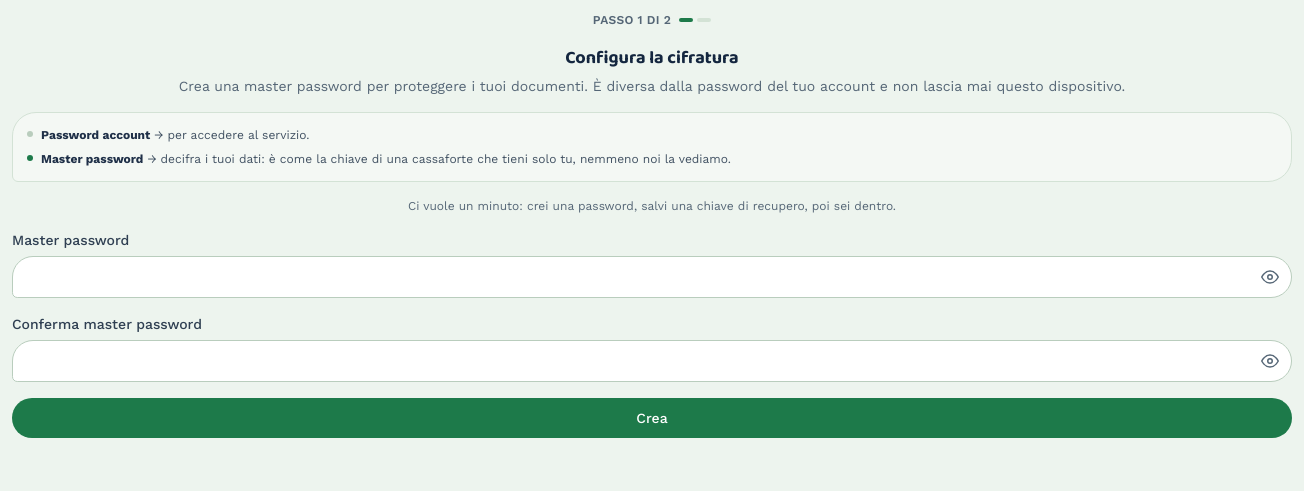
Test: SetupMasterKeyForm › al primo passo chiede password e conferma, e rifiuta password corte o diverse
The image size is (1304, 491).
Expected: the heading "Configura la cifratura" is shown, [565,44,739,72]
Expected: the text "Passo 1 di 2" is shown, [593,13,711,27]
Type "corta" into the password field labelled "Master password" at [652, 277], box [12,256,1292,298]
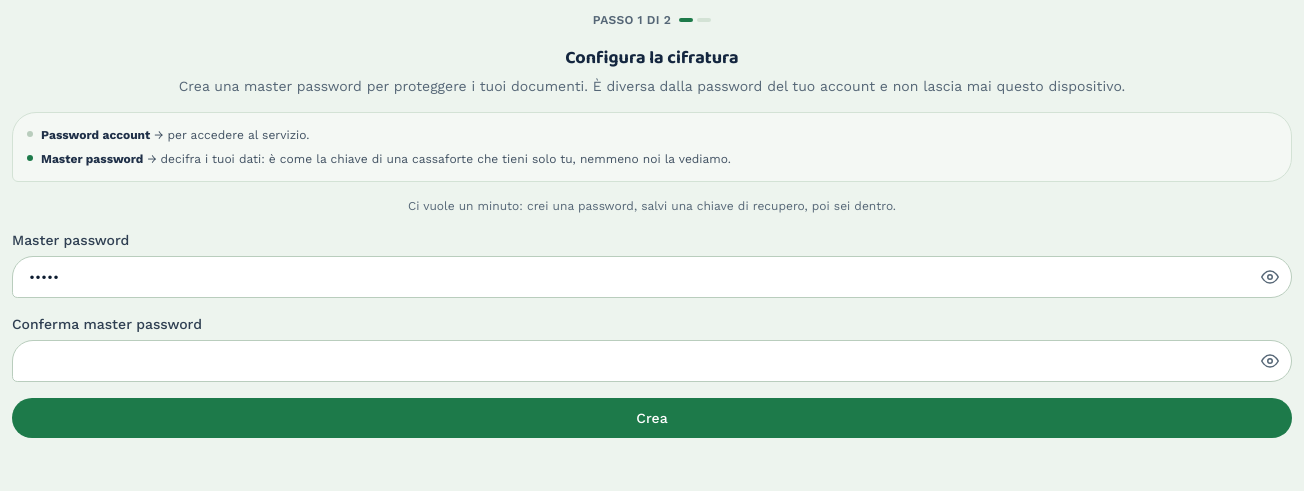
Type "corta" into the password field labelled "Conferma master password" at [652, 361], box [12,340,1292,382]
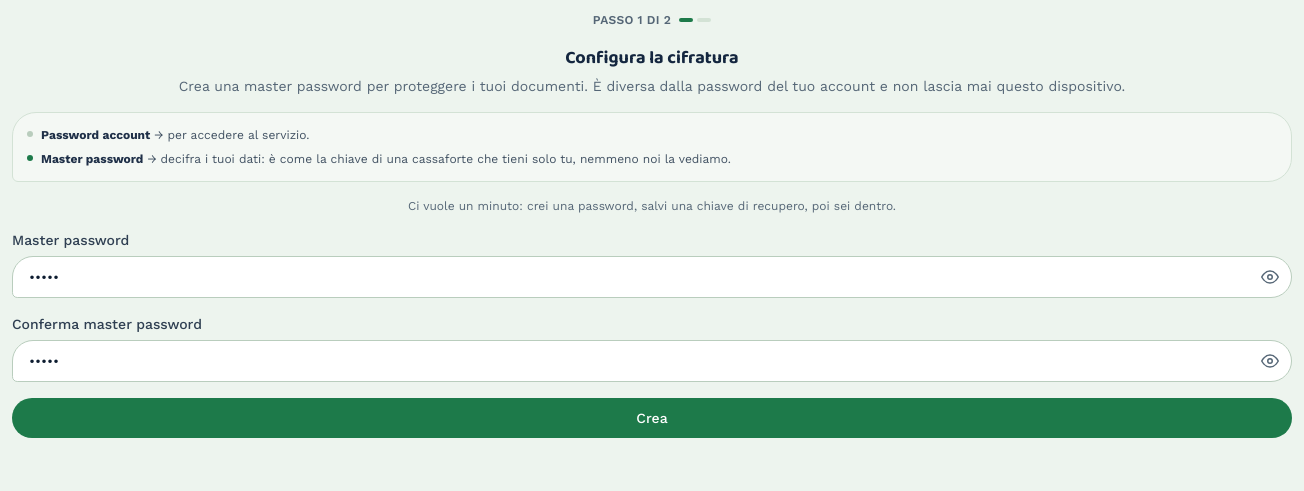
Click the button "Crea" at [652, 418], box [12,398,1292,438]
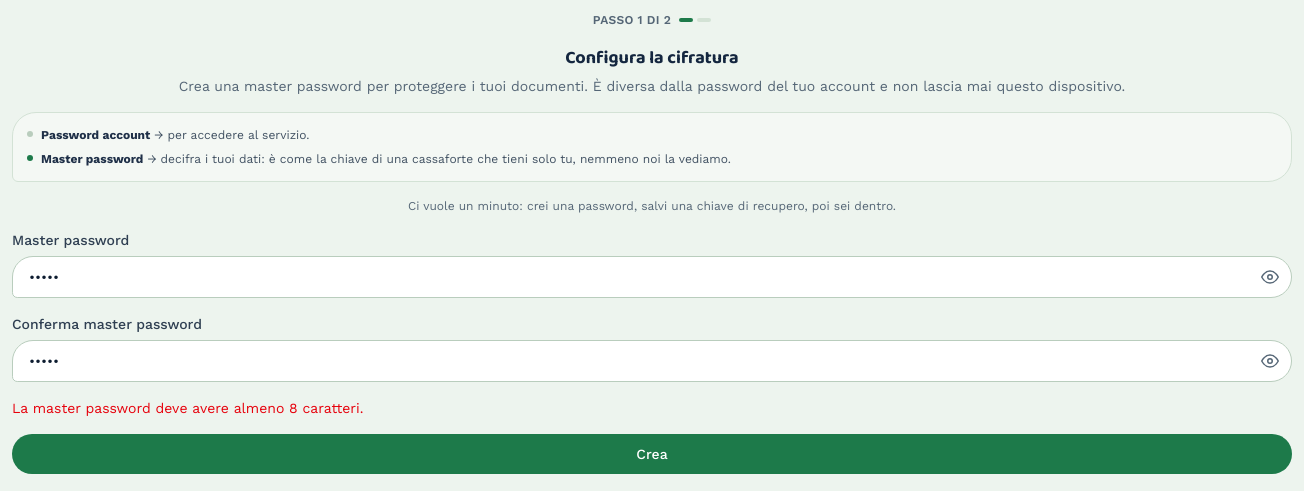
Result: the message shows "almeno 8 caratteri" at [12,400,364,416]
Type "una-master-password" into the password field labelled "Master password" at [652, 277], box [12,256,1292,298]
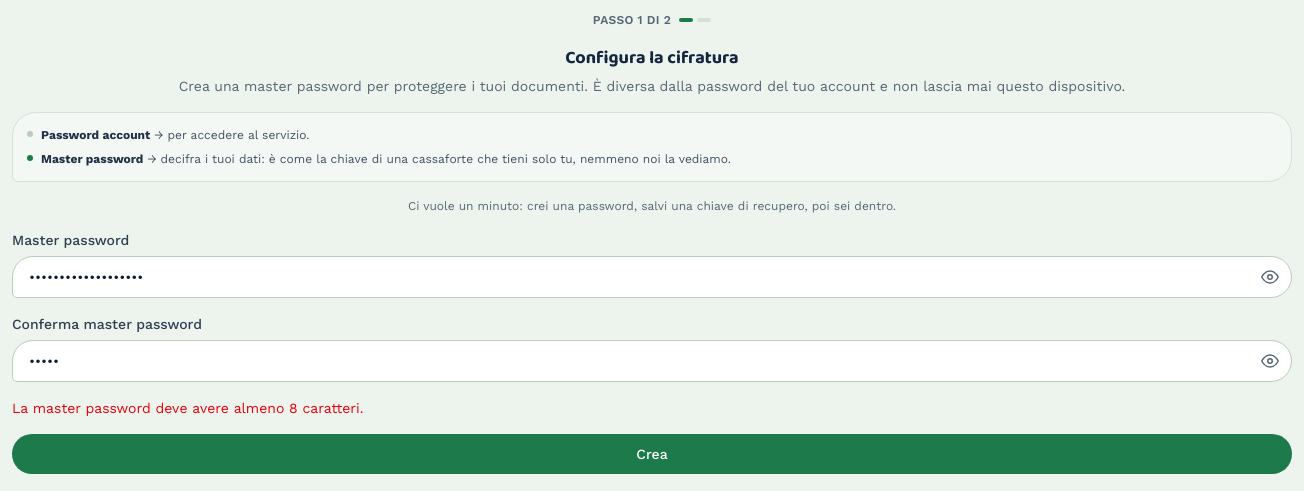
Type "un-altra-master-password" into the password field labelled "Conferma master password" at [652, 361], box [12,340,1292,382]
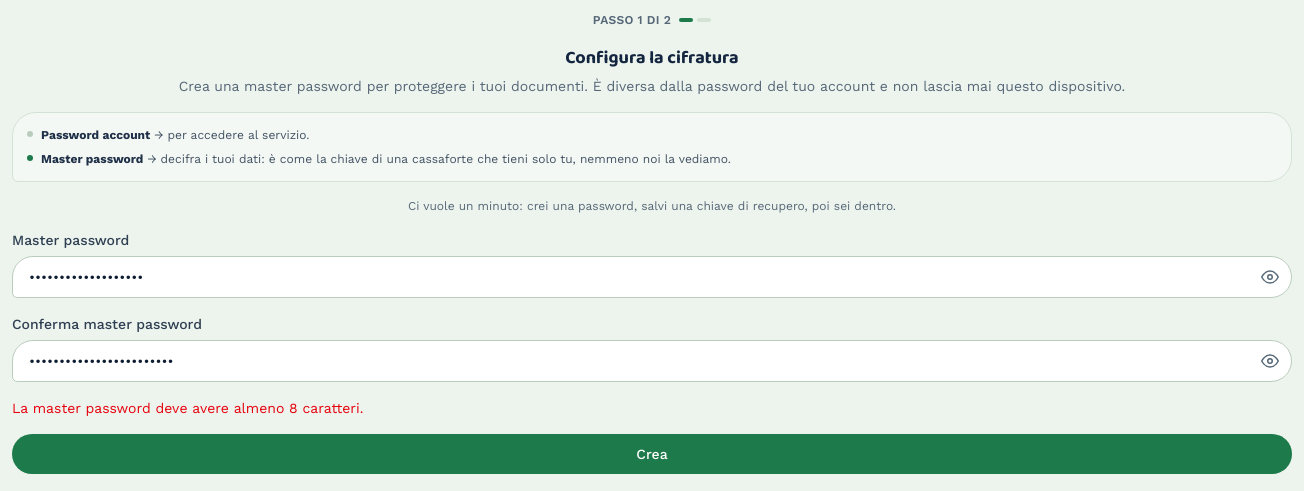
Click the button "Crea" at [652, 454], box [12,434,1292,474]
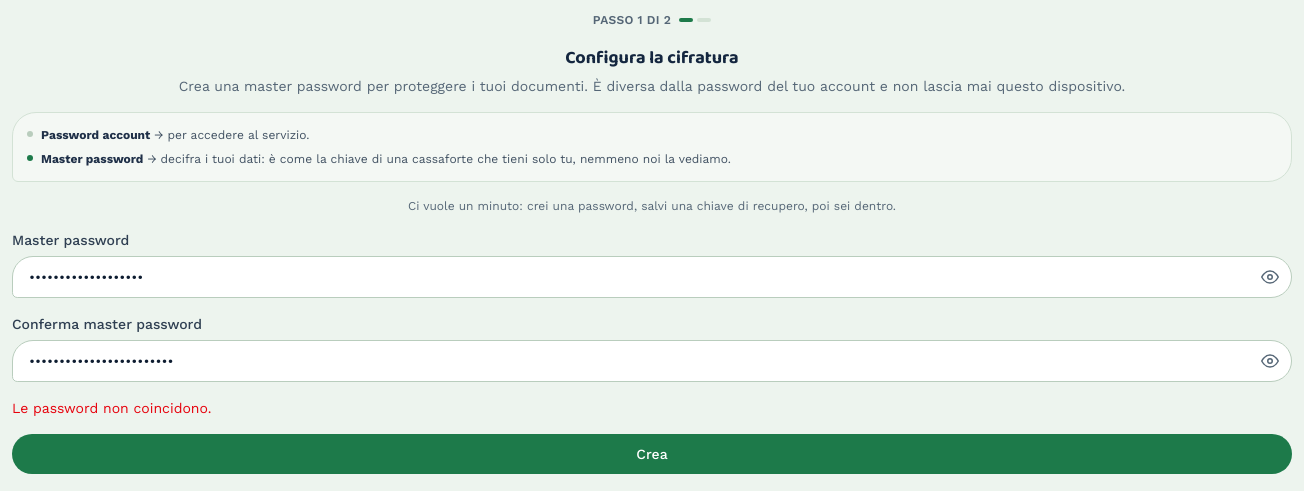
Result: the message shows "non coincidono" at [12,400,211,416]
